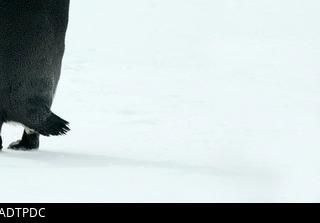Emperor Penguin: (0, 0, 175, 165)
